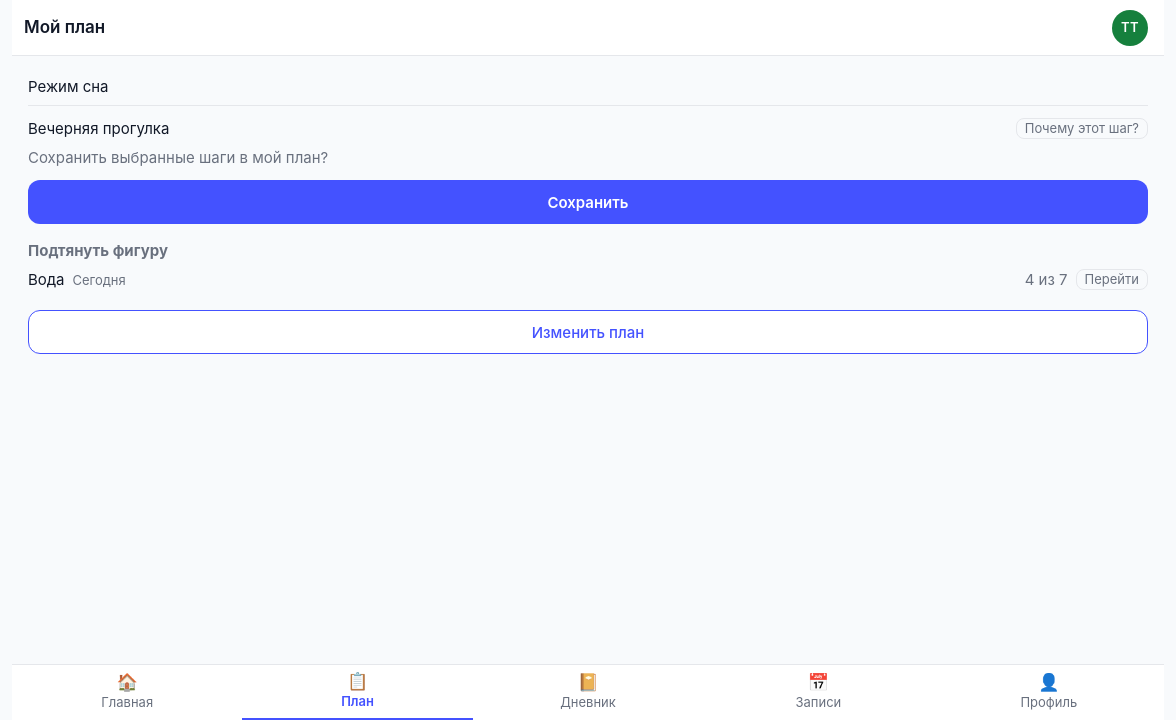
Scenario: «Мой план»: несохранённое предложение из чата › отказ сервера показан именем с пометкой «тест», предложение остаётся
Click the button "Сохранить".
click(588, 202)  # box left=28, top=180, right=1148, bottom=224
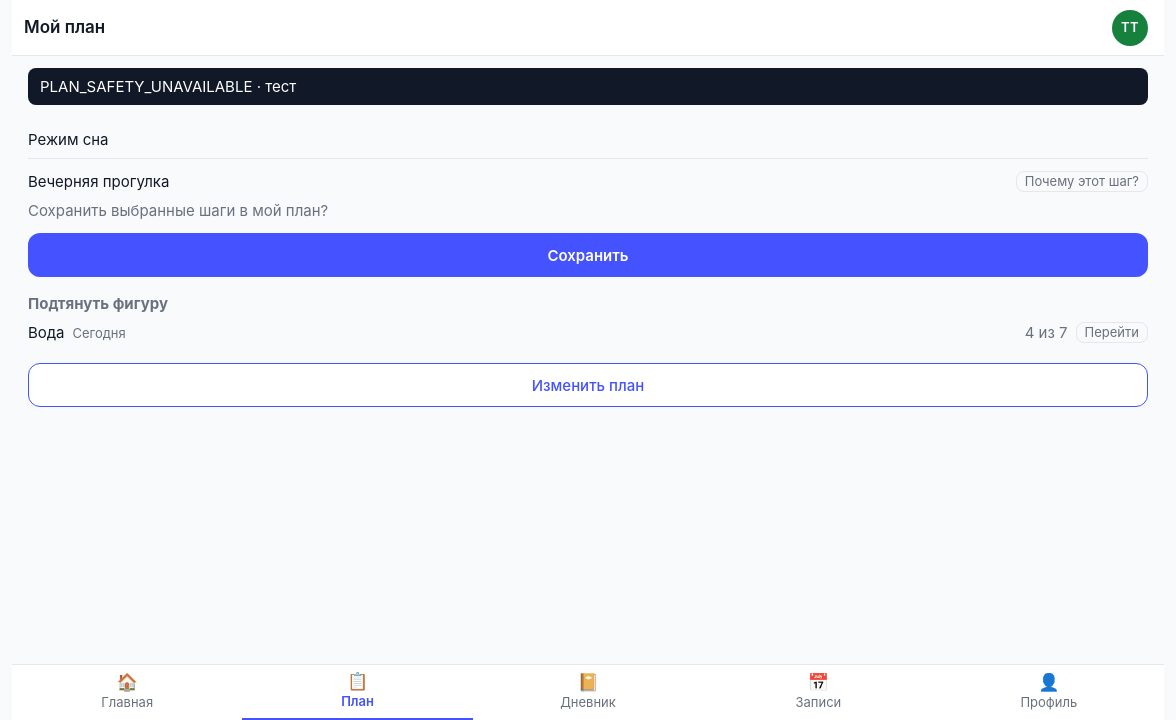
Expected: the element with test id "plan-draft-card" is shown, left=28, top=121, right=1148, bottom=277
Expected: the text "PLAN_SAFETY_UNAVAILABLE · тест" is shown, left=40, top=76, right=296, bottom=97
